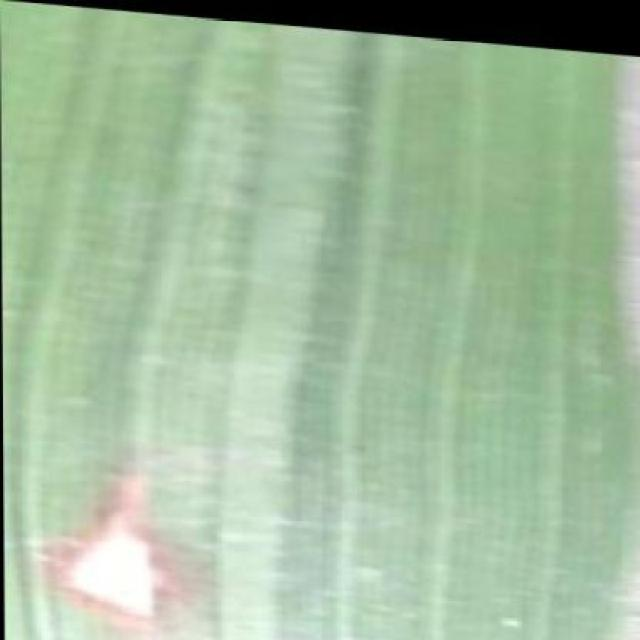Bacterial_Leaf_Blight: (39, 422, 206, 633)
